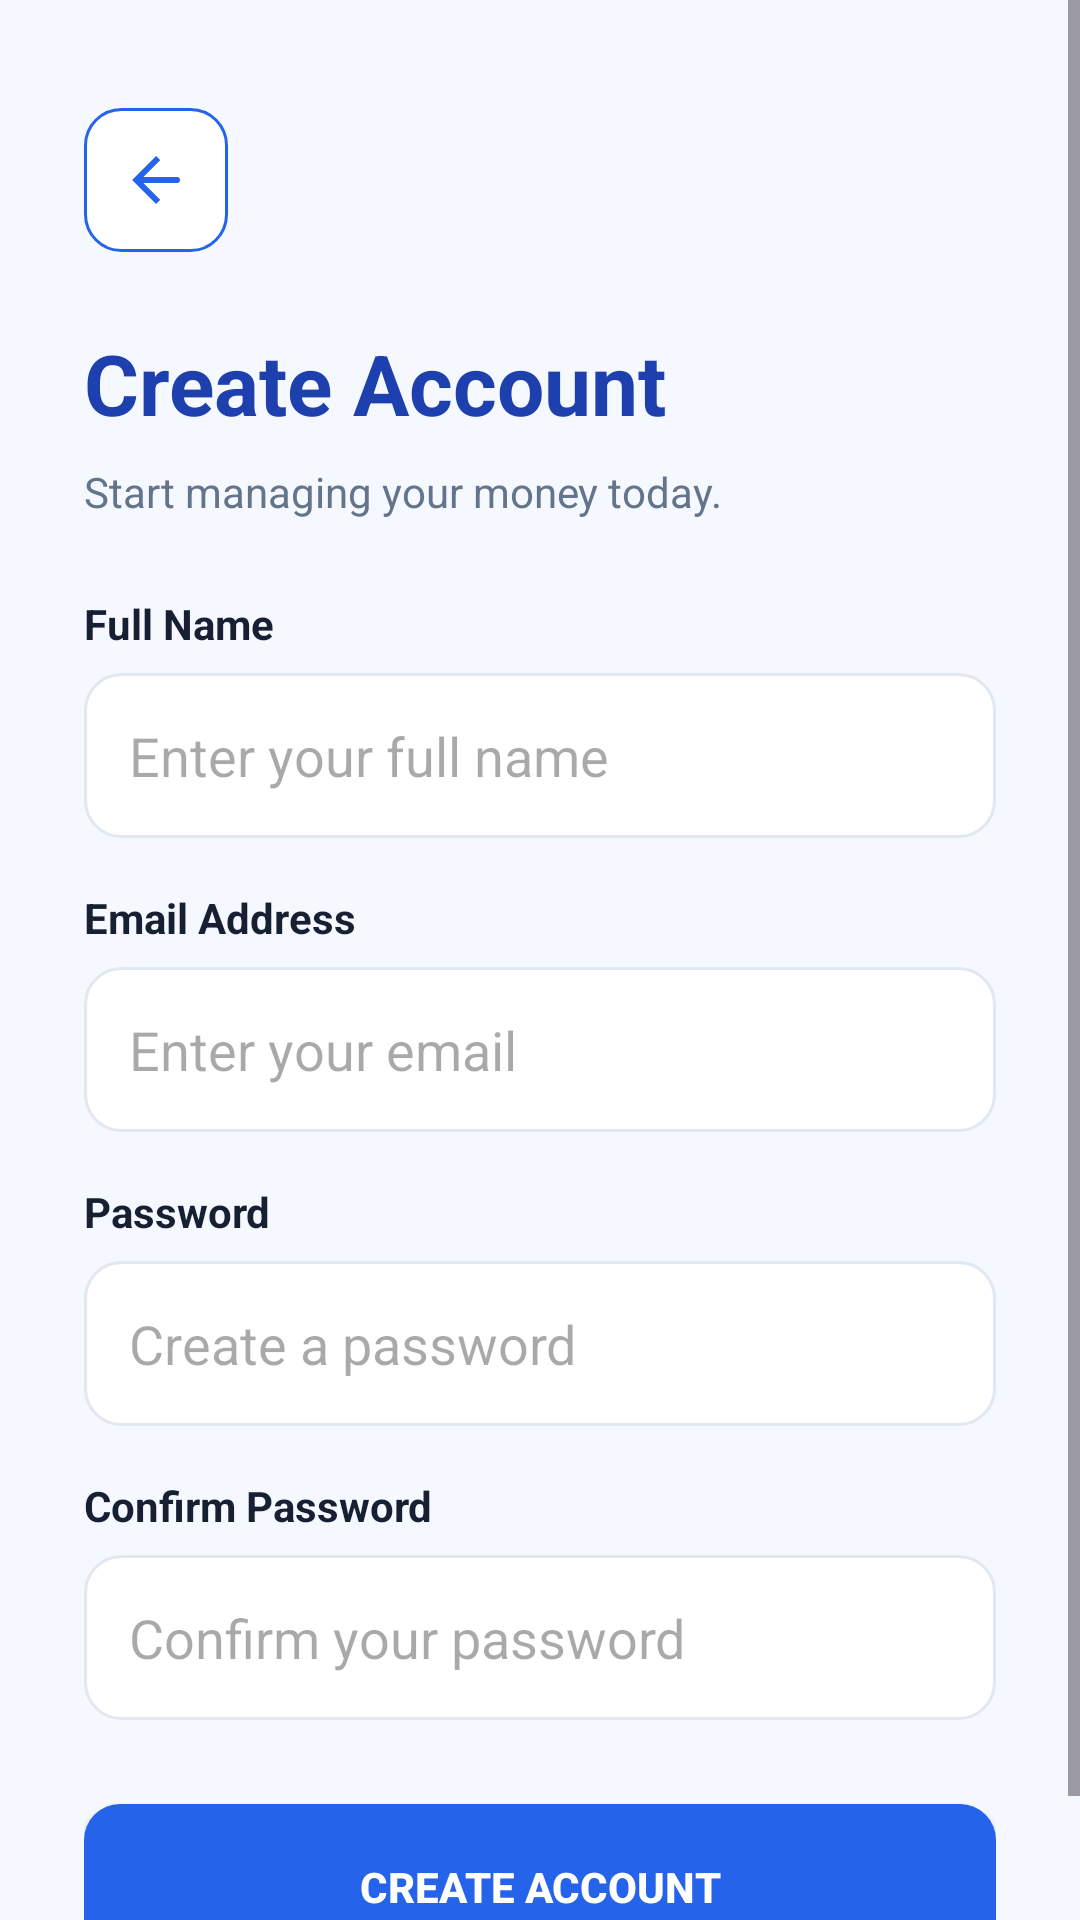

Where to tap for icons on this 1080px x 1920px app screen, as point (x, y):
Back: point (156, 180)
